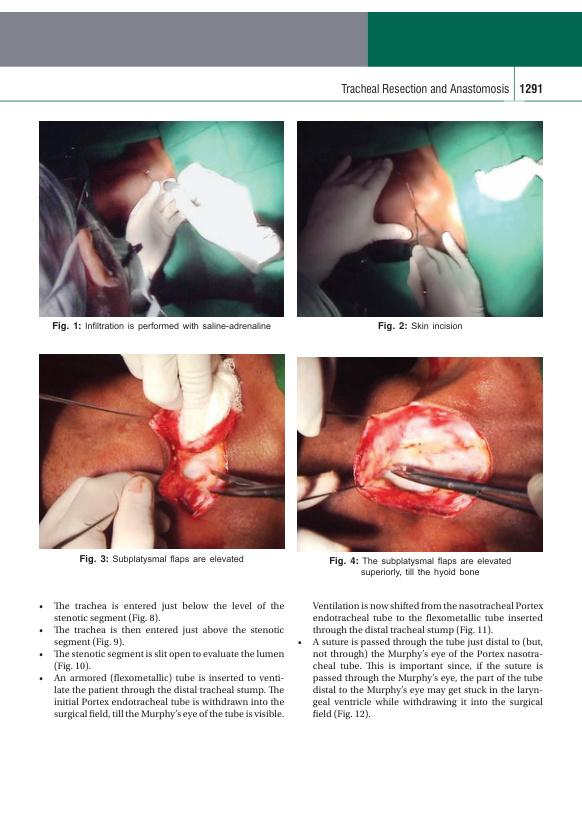caption: (328, 555, 512, 578), (51, 320, 272, 332), (78, 553, 245, 565), (377, 321, 464, 332)
header: (339, 82, 511, 94)
image: (38, 119, 285, 318), (296, 120, 544, 318), (38, 352, 286, 549), (296, 356, 544, 553)
text: (296, 599, 545, 720), (37, 600, 285, 720)
